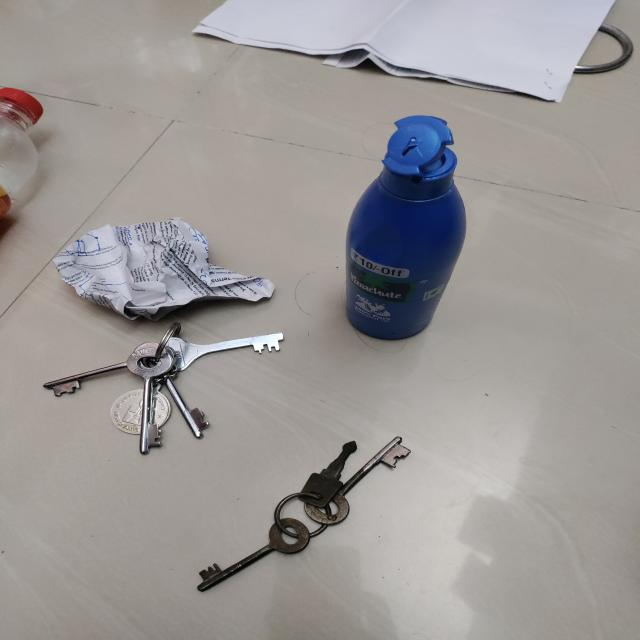metal: (197, 436, 415, 594), (34, 323, 290, 454), (582, 21, 633, 83)
paper: (202, 0, 582, 105), (51, 217, 277, 320)
plastic: (343, 108, 470, 342), (0, 83, 48, 243)
